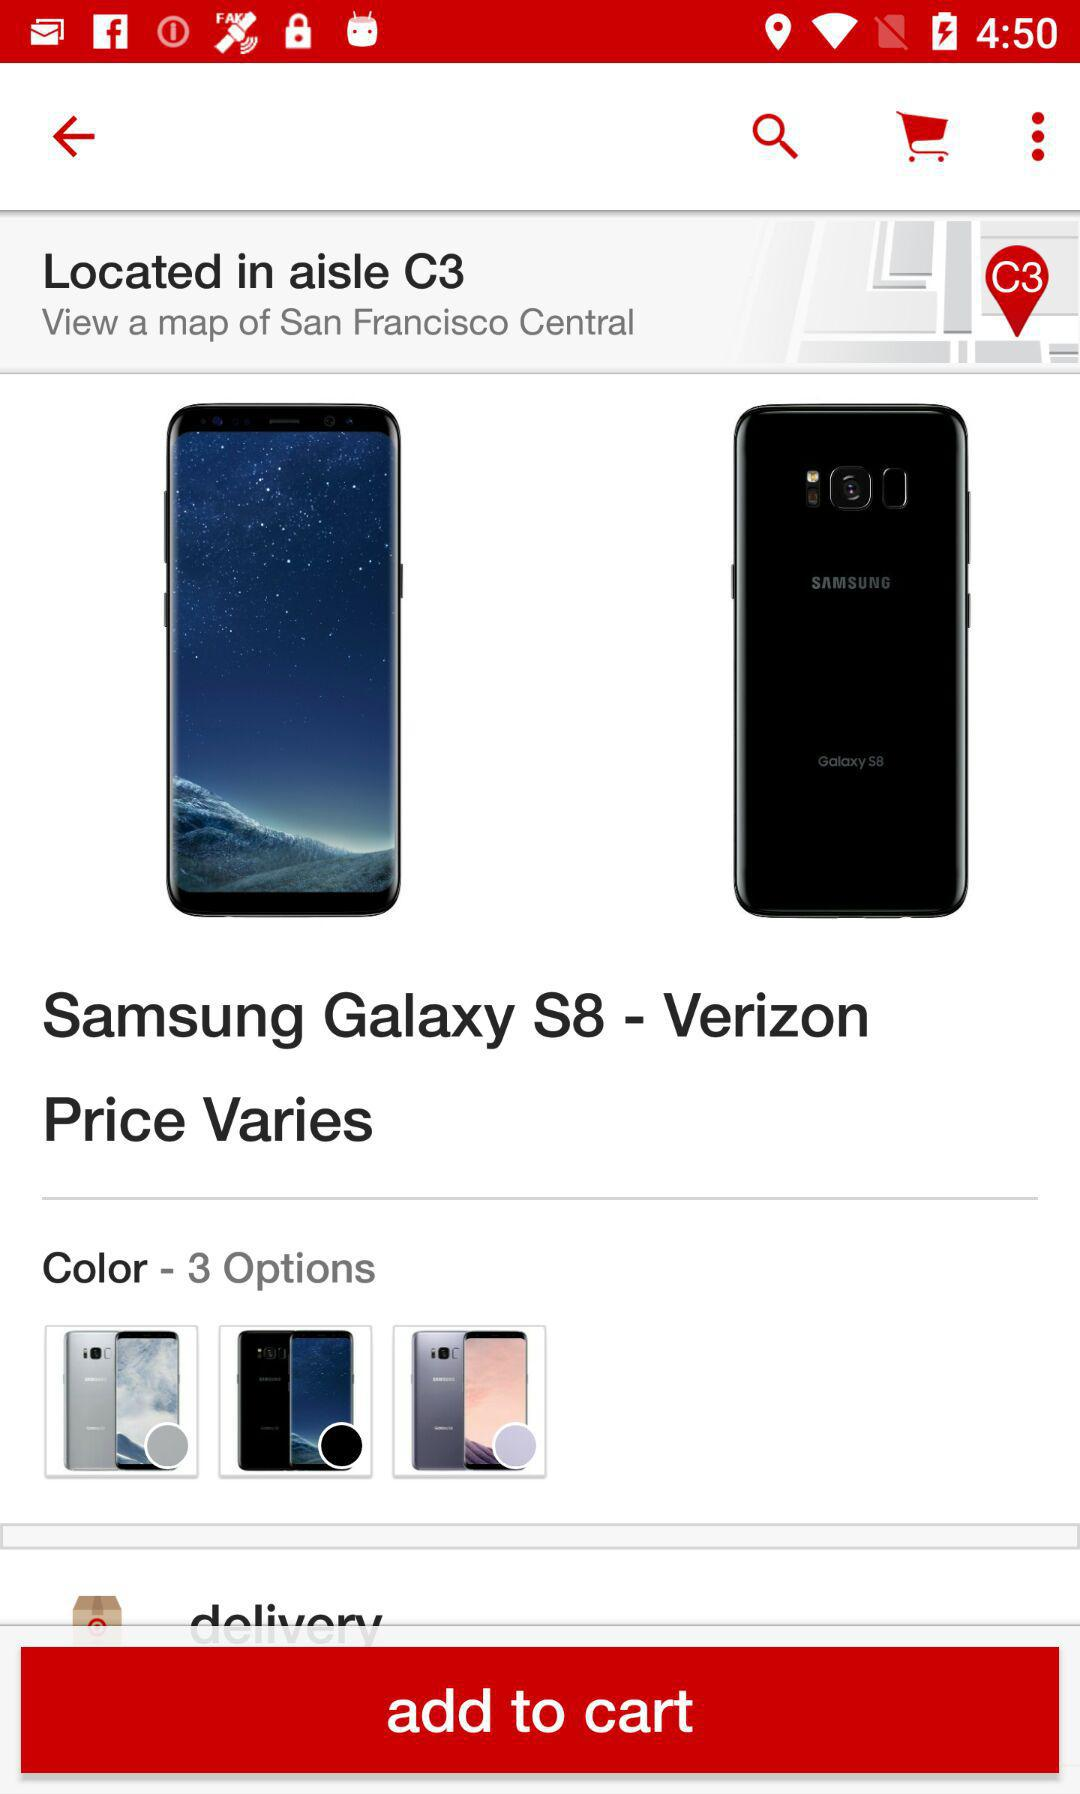Icon: (896, 111, 951, 164), (753, 113, 799, 161), (53, 117, 97, 159), (1030, 111, 1045, 163)
Image: (732, 402, 972, 920), (164, 402, 404, 919), (218, 1324, 374, 1480), (393, 1324, 548, 1480), (45, 1324, 200, 1480), (72, 1594, 123, 1626)
Text: (45, 991, 869, 1051), (42, 308, 635, 343), (45, 252, 465, 291), (47, 1096, 374, 1143), (44, 1251, 375, 1292)
TextButton: (20, 1647, 1060, 1773)
Toolbar: (1, 65, 1080, 209)
UpperTaskBar: (1, 1, 1080, 64)
